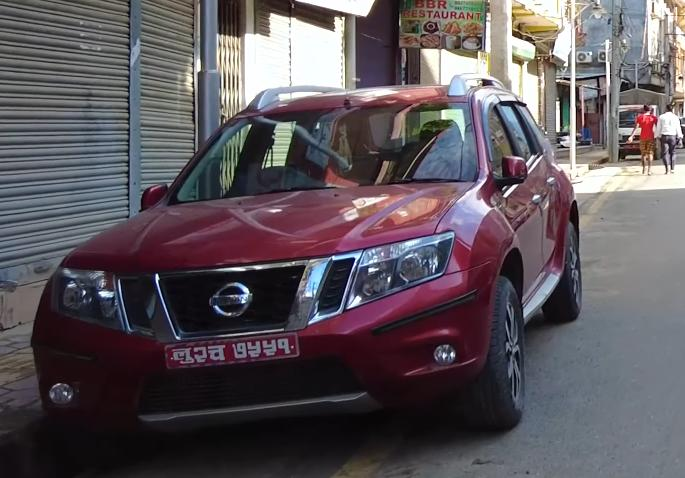car: (20, 81, 592, 443)
